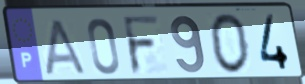0: (85, 15, 122, 77)
4: (258, 12, 293, 74)
9: (168, 14, 208, 76)
A: (44, 17, 89, 77)
F: (120, 14, 162, 77)
O: (208, 12, 252, 76)
